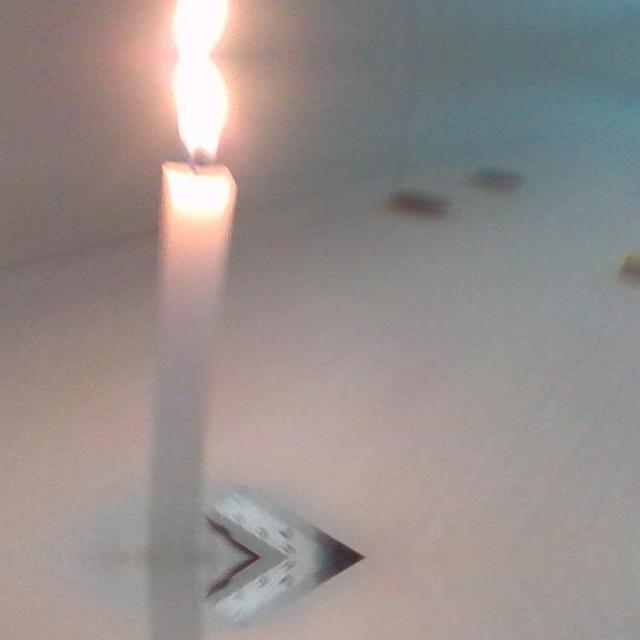smoke: (166, 0, 229, 158)
